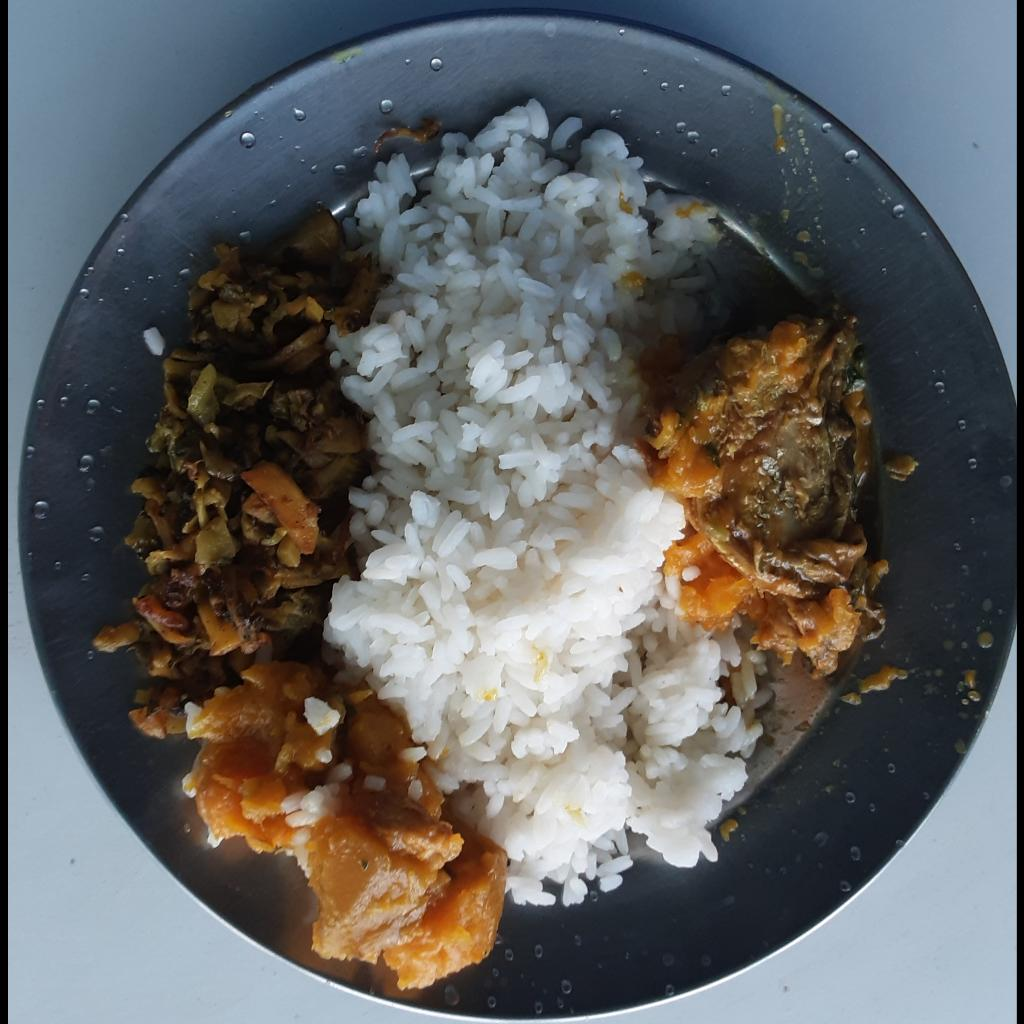fish: (636, 306, 915, 686)
korola-vaji: (88, 202, 391, 736)
kumra-vaji: (181, 656, 509, 984)
rice: (322, 96, 779, 910)
